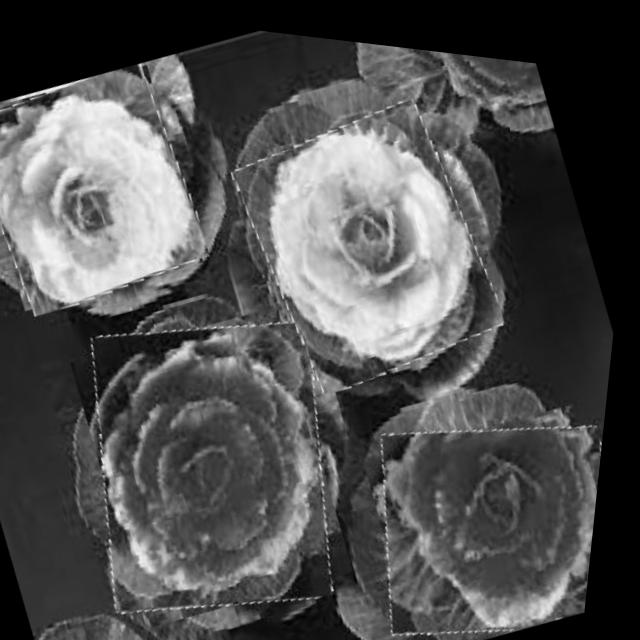Flower: (41, 265, 403, 640), (216, 68, 529, 406), (342, 354, 614, 640), (0, 41, 232, 333)
